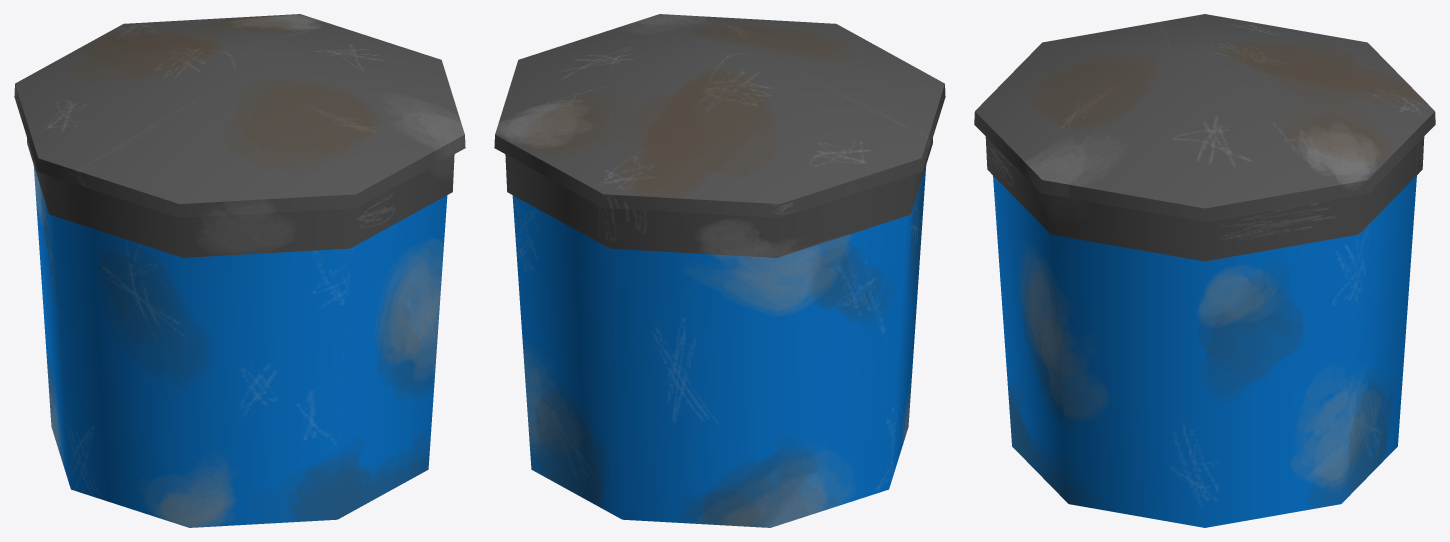
File: cont_grande_.fbx
The picture shows the model from 3 angles, left to right: view 1: azimuth 30°, elevation 25°; view 2: azimuth 150°, elevation 25°; view 3: azimuth 270°, elevation 25°; orthographic projection.
Visible parts, largest first — view 1: Cont_grande_term; view 2: Cont_grande_term; view 3: Cont_grande_term.
Part boxes in pixels (box(x1,y1,x2,y2)): Cont_grande_term: box(14, 14, 465, 527); Cont_grande_term: box(494, 14, 945, 527); Cont_grande_term: box(974, 14, 1435, 527).
Size of the model in its own units: 164 by 155 by 164.
1 material, 1 textured.
